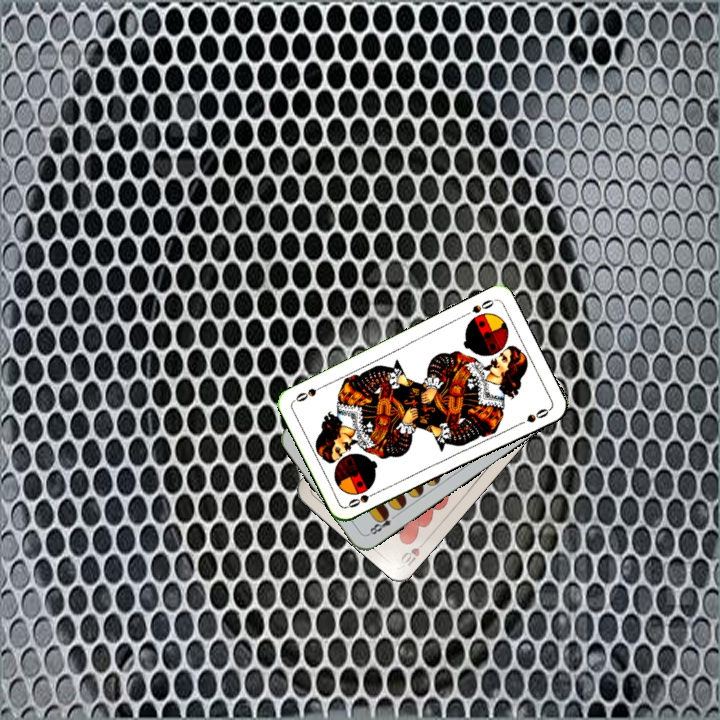E8: (364, 508, 400, 538)
H10: (396, 535, 430, 569)
SO: (343, 486, 382, 510), (459, 295, 497, 319)
